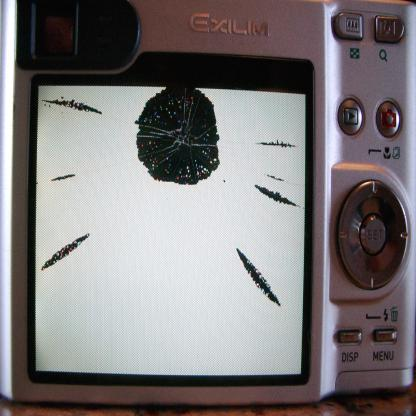Camera: (11, 1, 416, 404)
